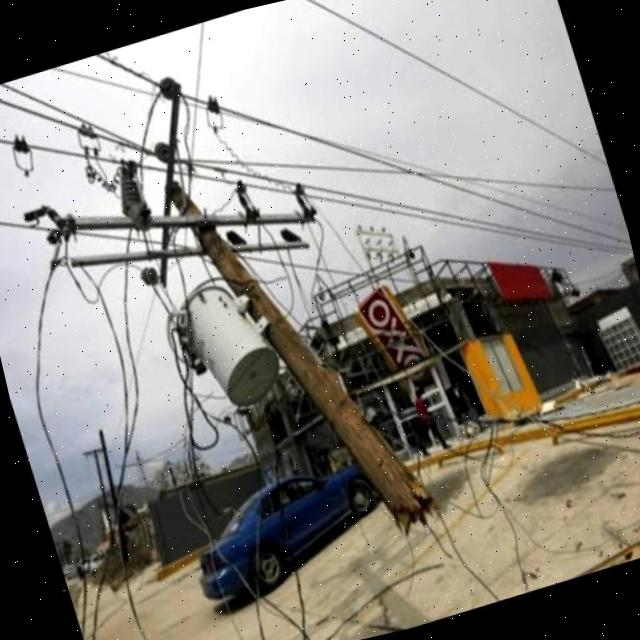Broken Pole: (0, 87, 444, 545)
